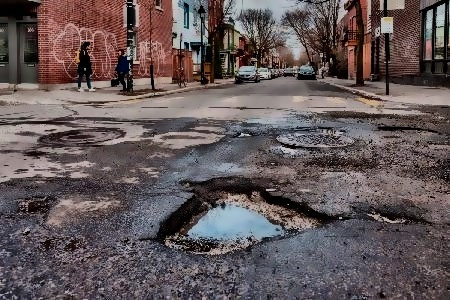pothole: (154, 174, 328, 257), (13, 193, 56, 219), (376, 123, 442, 138), (366, 208, 410, 225), (232, 129, 256, 139)
